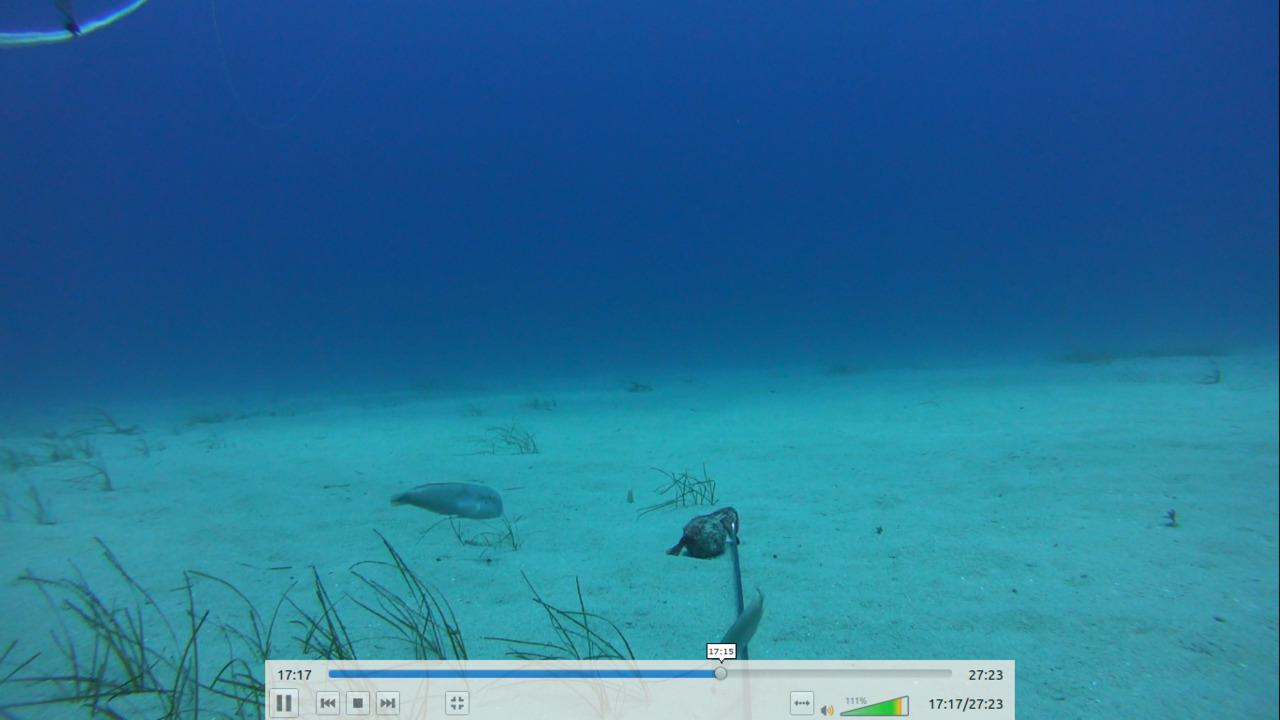raor: (382, 475, 508, 527), (717, 581, 769, 641)
